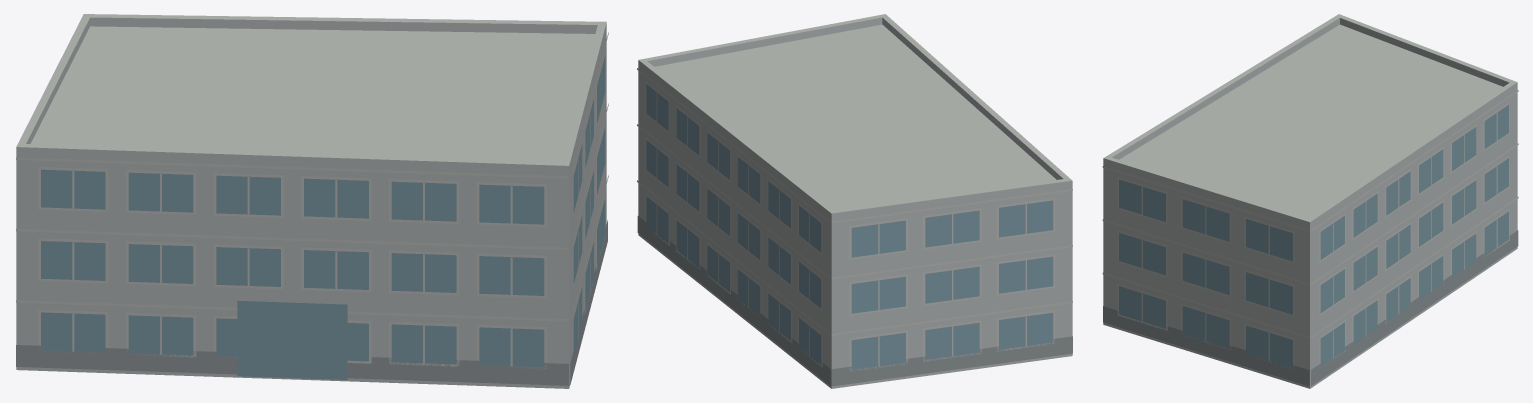
File: public-2e9ef580-fbfe-42e3-8e55-3c8c31c875f7.glb
3 renders of one model, left to right at view 1: azimuth 30°, elevation 25°; view 2: azimuth 150°, elevation 25°; view 3: azimuth 270°, elevation 25°, orthographic. The views are drawn at different scales.
Parts seen in each view (by area): view 1: public-2e9ef580-fbfe-42e3-8e55-3c8c31c875f7; view 2: public-2e9ef580-fbfe-42e3-8e55-3c8c31c875f7; view 3: public-2e9ef580-fbfe-42e3-8e55-3c8c31c875f7.
Boxes of the visible parts, x1,y1,x2,y2 form: public-2e9ef580-fbfe-42e3-8e55-3c8c31c875f7: [16, 14, 608, 388]; public-2e9ef580-fbfe-42e3-8e55-3c8c31c875f7: [637, 14, 1072, 388]; public-2e9ef580-fbfe-42e3-8e55-3c8c31c875f7: [1102, 14, 1518, 388].
Size of the model in its own units: 24.64 by 9.15 by 20.72.
